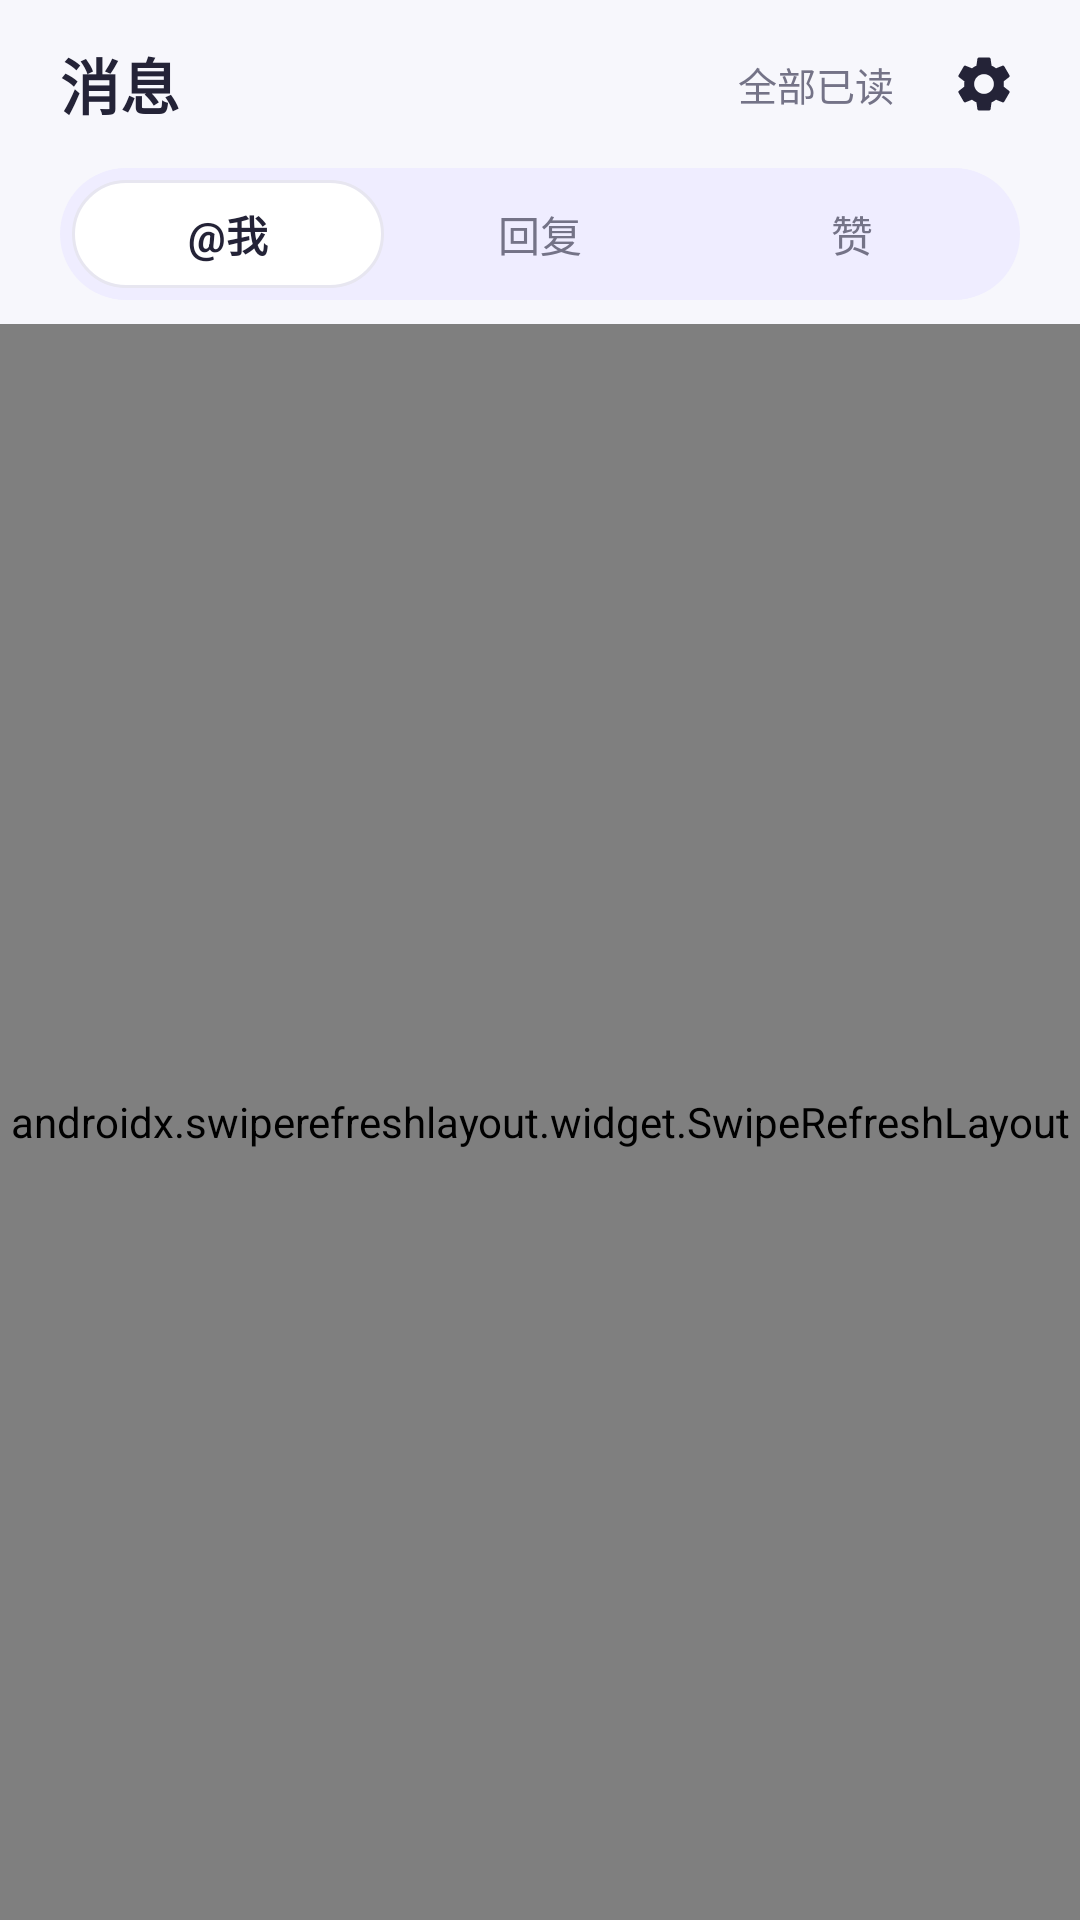

Icon bounding boxes for this 1080px×1920px phone screenshot, format (x1, y1, x2, y2):
通知设置: (958, 57, 1010, 111)
